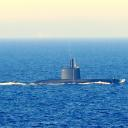submarine: (8, 58, 123, 83)
